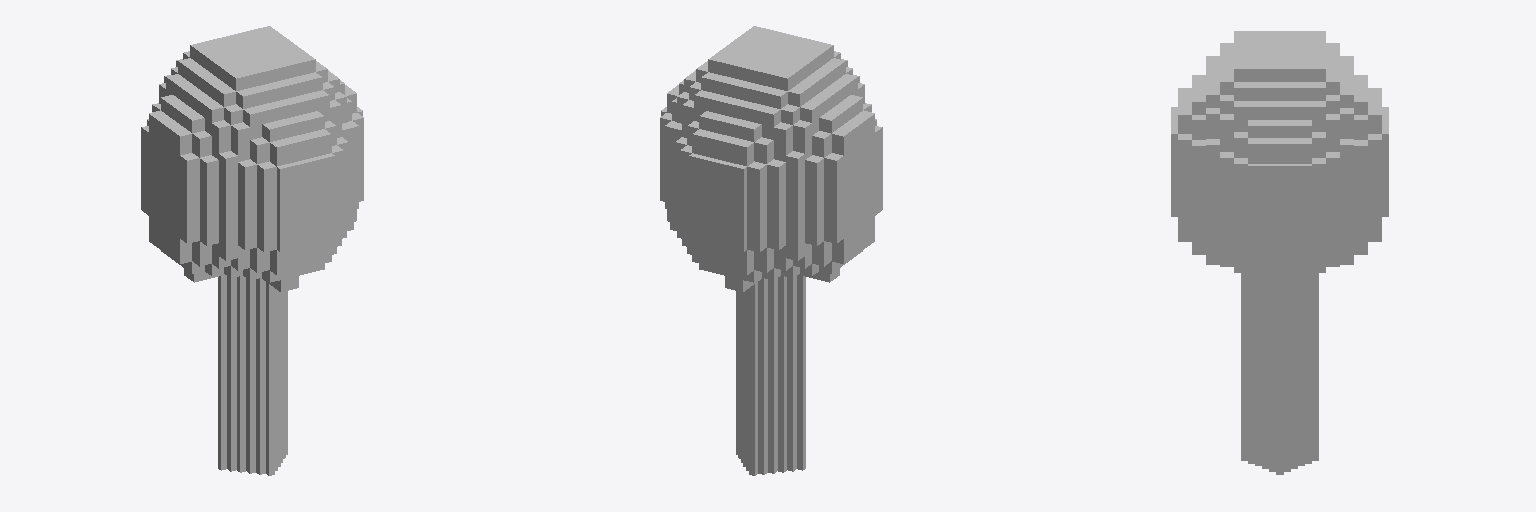
Rendered from Tree.obj.
3 renders of one model, left to right at view 1: azimuth 30°, elevation 25°; view 2: azimuth 150°, elevation 25°; view 3: azimuth 270°, elevation 25°, orthographic.
Visible parts, largest first — view 1: object 1; view 2: object 1; view 3: object 1.
Part boxes in pixels (bbox=[...]): object 1: bbox=[141, 26, 363, 475]; object 1: bbox=[660, 26, 882, 475]; object 1: bbox=[1171, 31, 1388, 474].
Bounding box in the file's own units: 3 × 6.4 × 3.1.